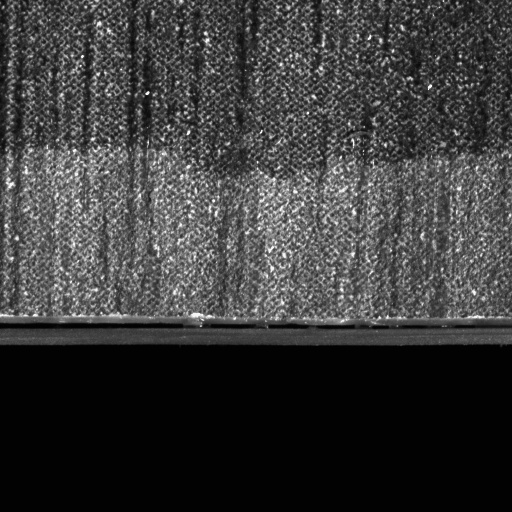kaijiao: (1, 316, 511, 349)
